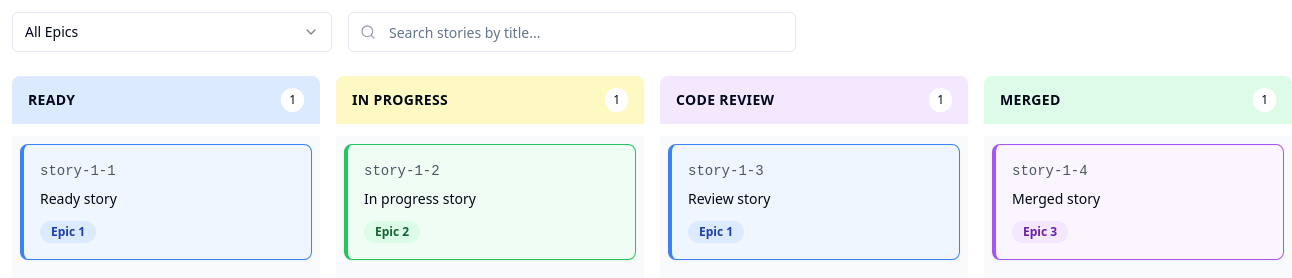
Test: KanbanBoard › filters stories by search term
In the field with placeholder "Search stories by title...": (572, 32) [348,12,796,52], type "ready"
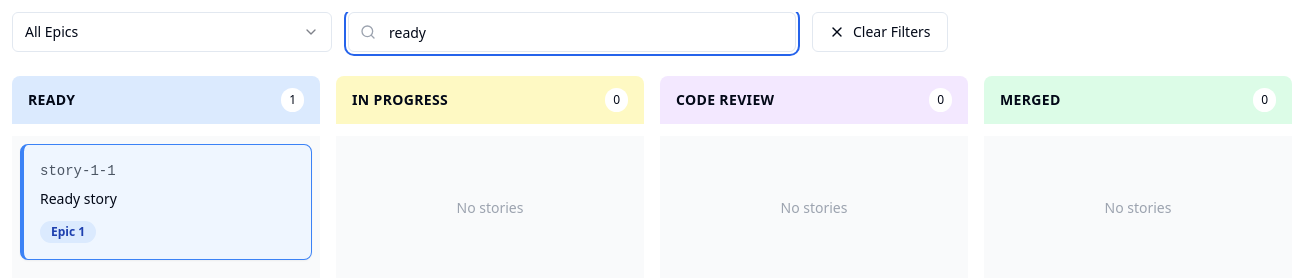
Check: the button "In progress story" is gone
Check: the button "Review story" is gone
Check: the button "Merged story" is gone
